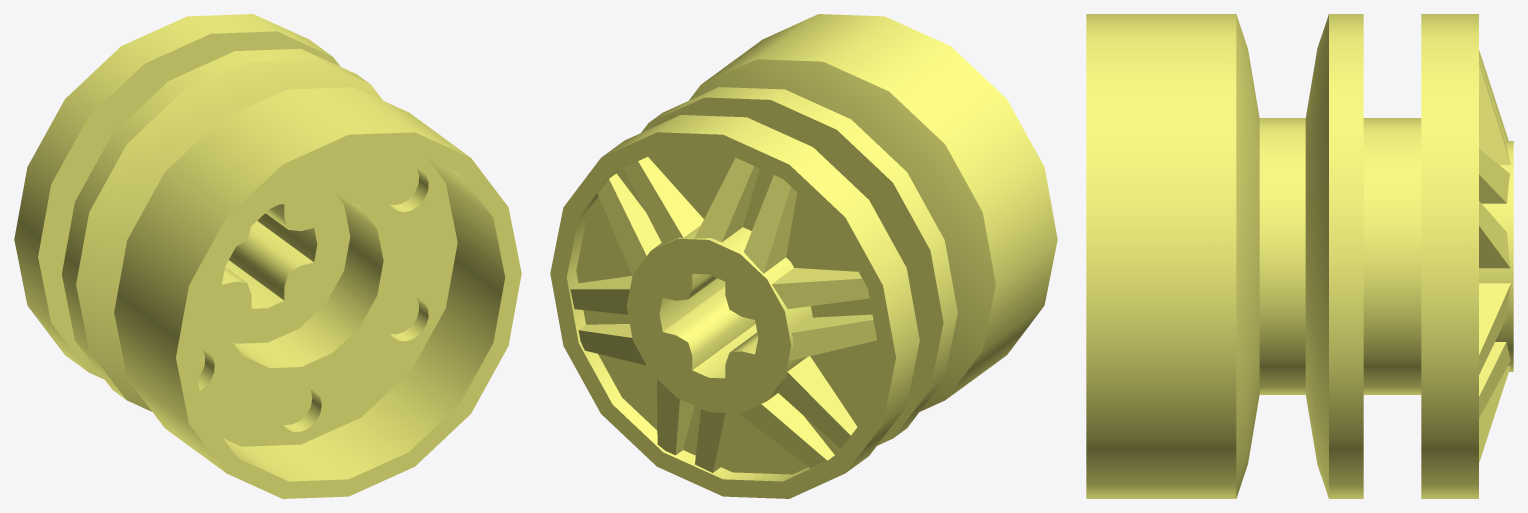
3 renders of one model, left to right at view 1: azimuth 30°, elevation 25°; view 2: azimuth 150°, elevation 25°; view 3: azimuth 270°, elevation 25°, orthographic. The views are drawn at different scales.
Parts seen in each view (by area): view 1: 55982.dat; view 2: 55982.dat; view 3: 55982.dat.
Part boxes in pixels (x1,y1,x2,y2): 55982.dat: [14, 14, 521, 498]; 55982.dat: [550, 14, 1057, 498]; 55982.dat: [1086, 14, 1513, 498].
Bounding box in the file's own units: 0.0168 × 0.0168 × 0.0148.
